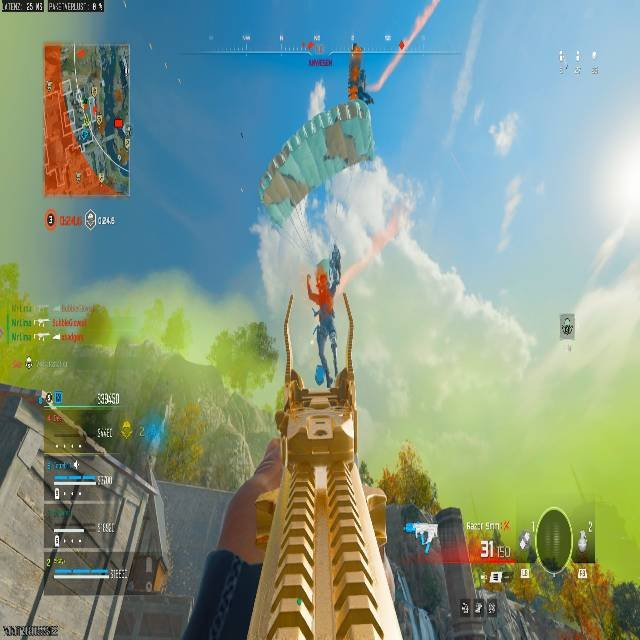player: (304, 264, 343, 384)
